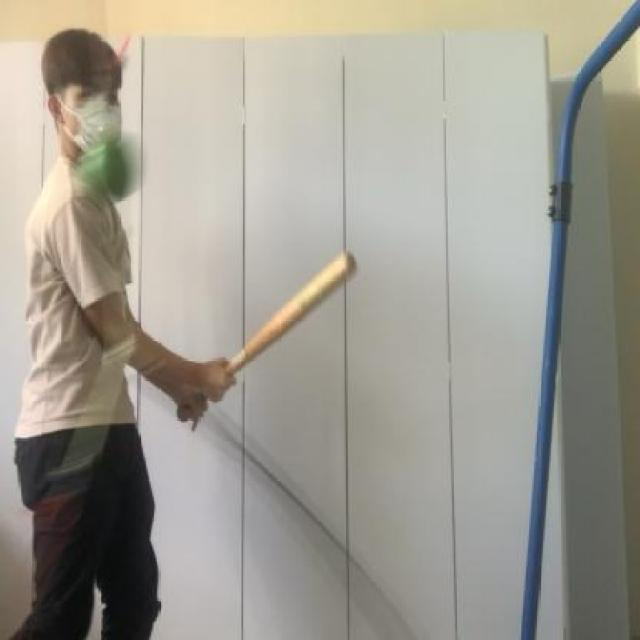baseball: (64, 126, 156, 212)
